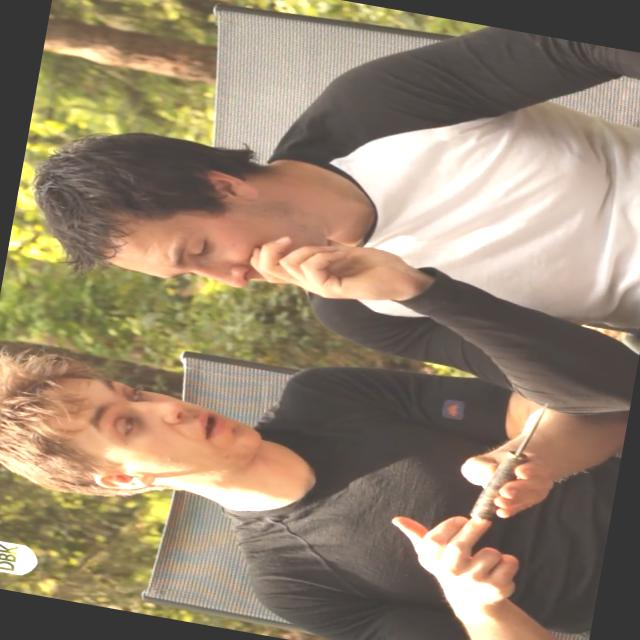knife: (416, 373, 564, 569)
